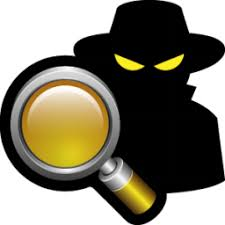searchIcon: (8, 65, 157, 213)
